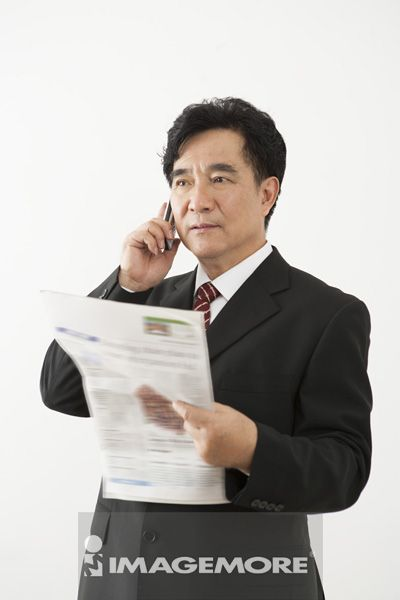talk: (120, 157, 247, 281)
